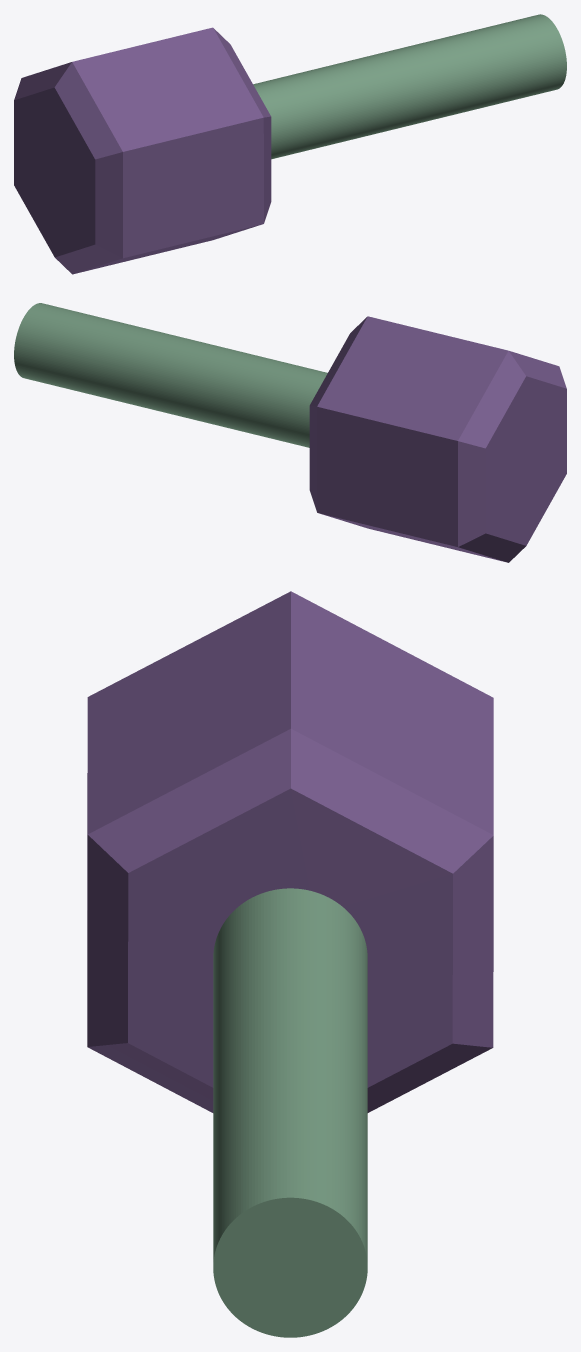
Rendered from 1_canonical.obj.
3 views of the same model, one above another, from view 1: azimuth 30°, elevation 25°; view 2: azimuth 150°, elevation 25°; view 3: azimuth 270°, elevation 25° (orthographic). The views are drawn at different scales.
Visible parts, largest first — view 1: geometry_1, geometry_0; view 2: geometry_1, geometry_0; view 3: geometry_1, geometry_0.
Part boxes in pixels (<box>): geometry_1: <box>14,27,271,274</box>; geometry_0: <box>253,14,566,159</box>; geometry_1: <box>309,316,566,562</box>; geometry_0: <box>14,303,327,447</box>; geometry_1: <box>87,591,493,1112</box>; geometry_0: <box>213,888,367,1337</box>.
Size of the model in its own units: 0.07 by 0.0288 by 0.025.
